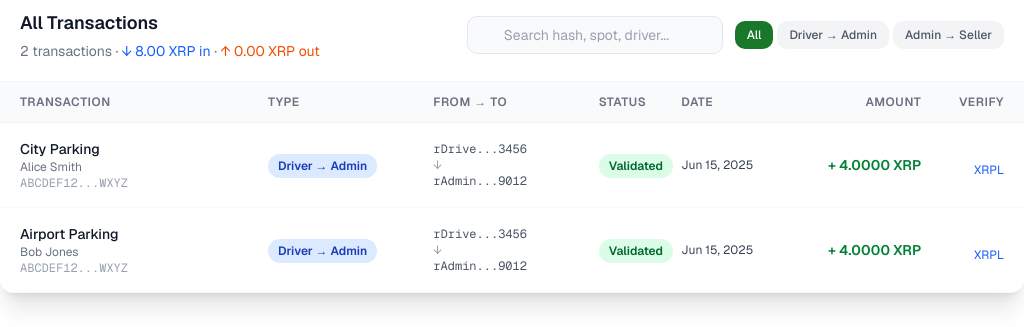
Scenario: TransactionTable Component › Search Functionality › search filters by spot title
This screenshot has width=1024, height=327.
Expected: the text "City Parking" is shown, [20,140,100,158]
Step 1. Type "City" into the field with placeholder "Search hash, spot, driver..." → (595, 35), box [467,16,723,54]
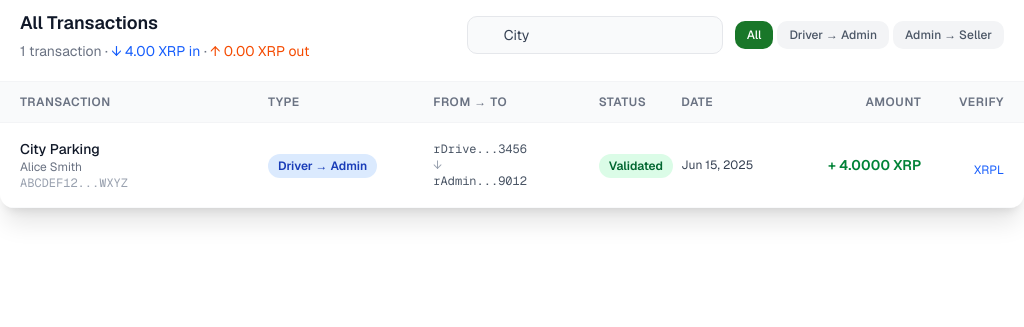
Expected: the text "City Parking" is shown, [20,140,100,158]
Expected: the text "Airport Parking" is gone
